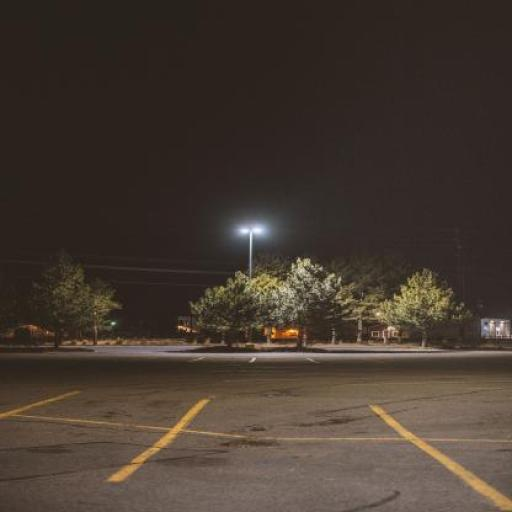street light: (240, 226, 262, 349)
